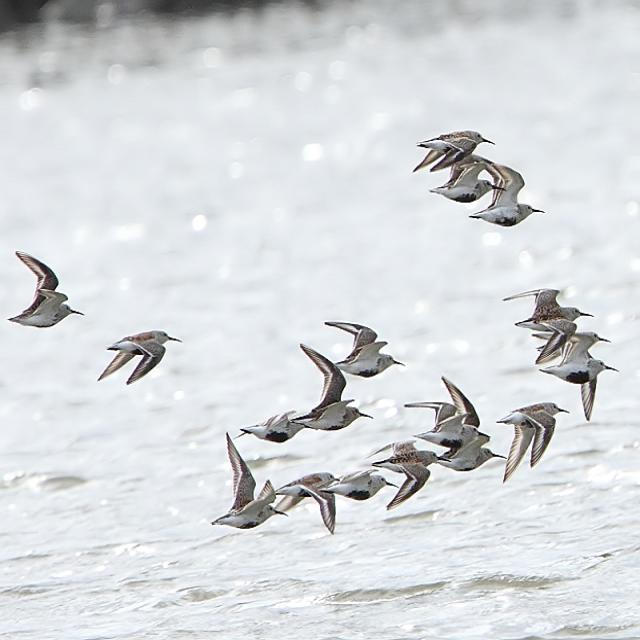bird: (244, 362, 372, 440), (211, 434, 283, 531), (9, 252, 84, 334), (496, 401, 570, 483), (505, 292, 594, 358), (319, 321, 407, 380), (293, 342, 362, 411), (370, 440, 437, 511), (100, 332, 187, 386), (542, 359, 614, 423), (410, 128, 500, 178), (432, 377, 495, 444), (270, 466, 332, 528), (528, 324, 609, 356), (322, 463, 388, 501), (467, 204, 540, 232)
